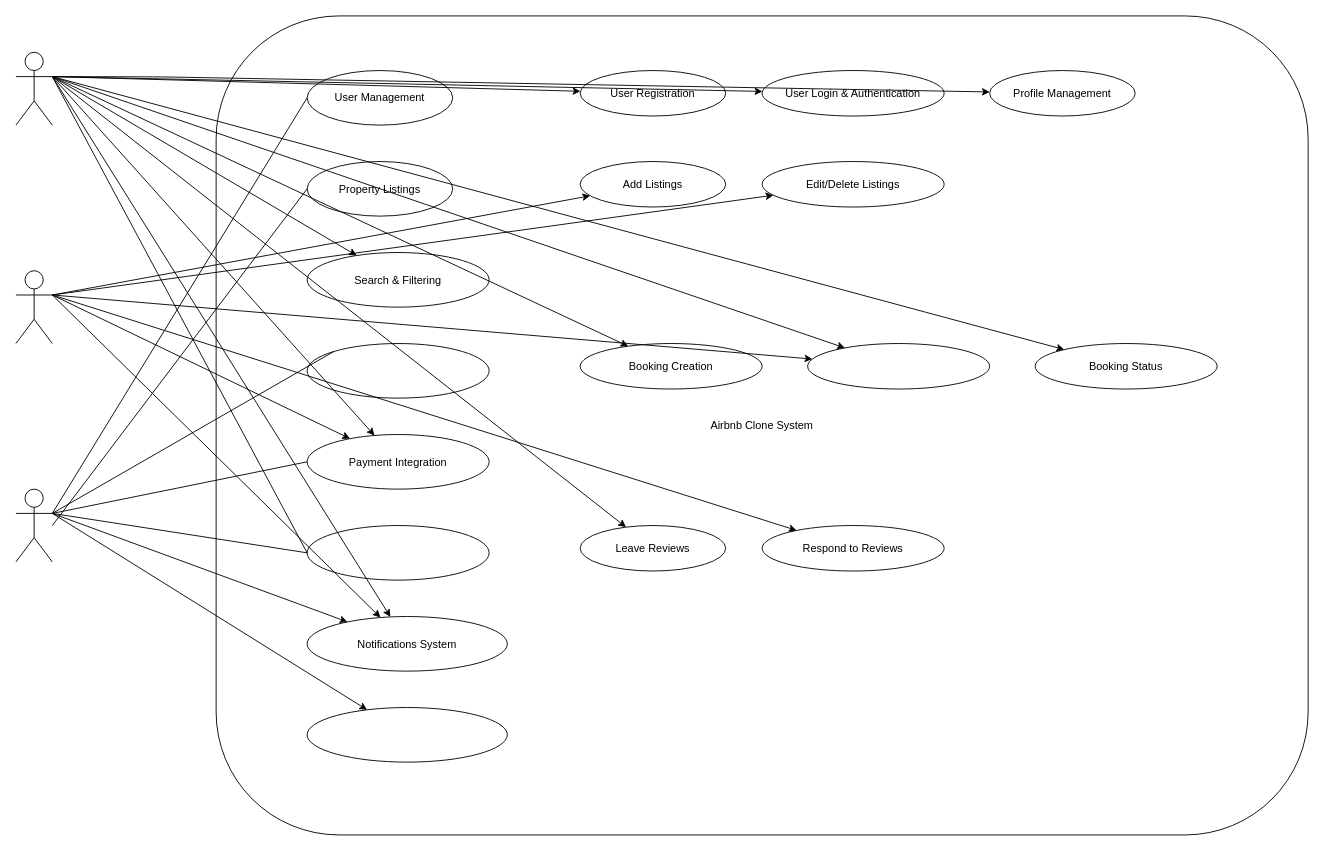
Image size: 1324x851. Some labels were removed from this diagram. Each missing label, with the centre of its shape:
"Admin" goes at point 33,525.
"Admin Dashboard" goes at point 406,734.
"Booking Cancellation" goes at point 898,366.
"Booking Management" goes at point 397,370.
"Guest" goes at point 33,88.
"Host" goes at point 33,307.
"Reviews & Ratings" goes at point 397,552.
